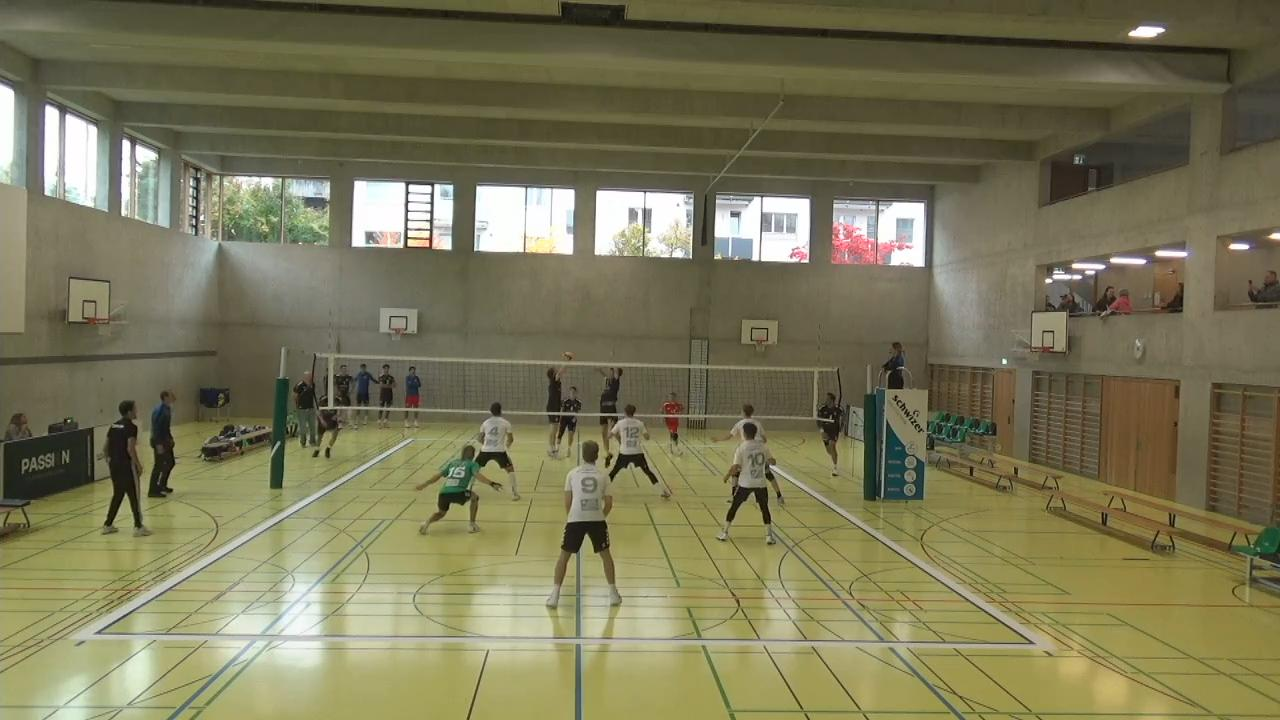alzata: (540, 354, 567, 466)
